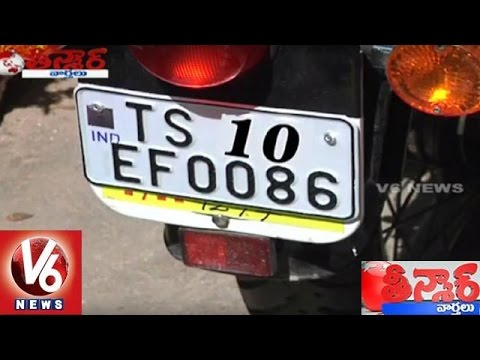doublelinenumberplate: (70, 79, 361, 223)
